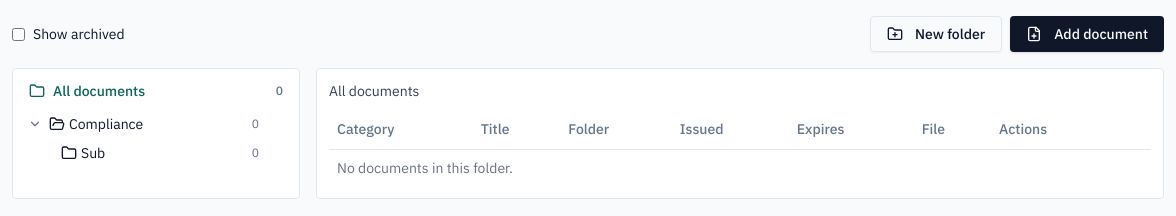
Test: Tree (R6 #1-#5) › #2 — expand/collapse toggles children visibility
Check: the text "Sub" is shown, box x1=81 y1=144 x2=105 y2=162
Click the button with test id "folder-node-toggle-F1". click: (35, 124)
box: x1=25 y1=114 x2=45 y2=134
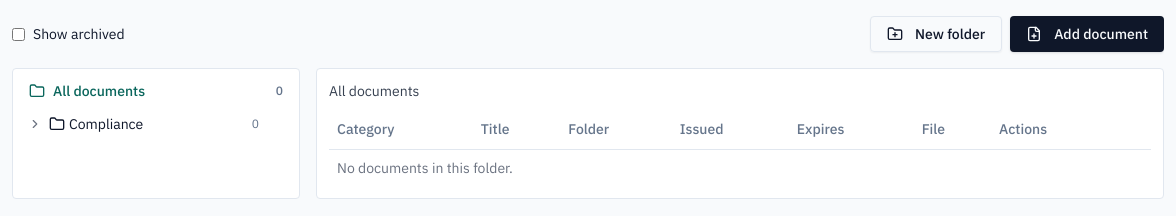
Check: the text with test id "folder-node-name-F1a" is gone
Click the button with test id "folder-node-toggle-F1". click: (35, 124)
box: x1=25 y1=114 x2=45 y2=134
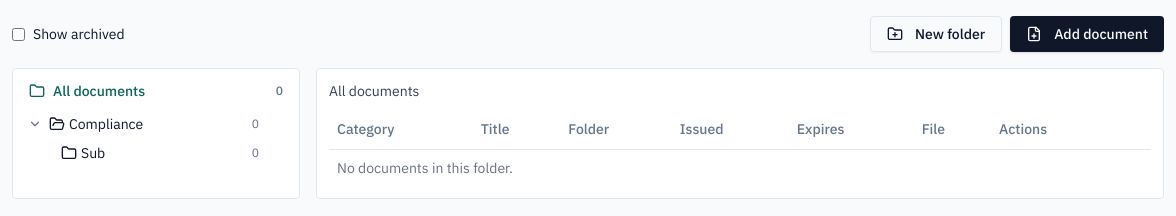
Check: the text "Sub" is shown, box x1=81 y1=144 x2=105 y2=162
